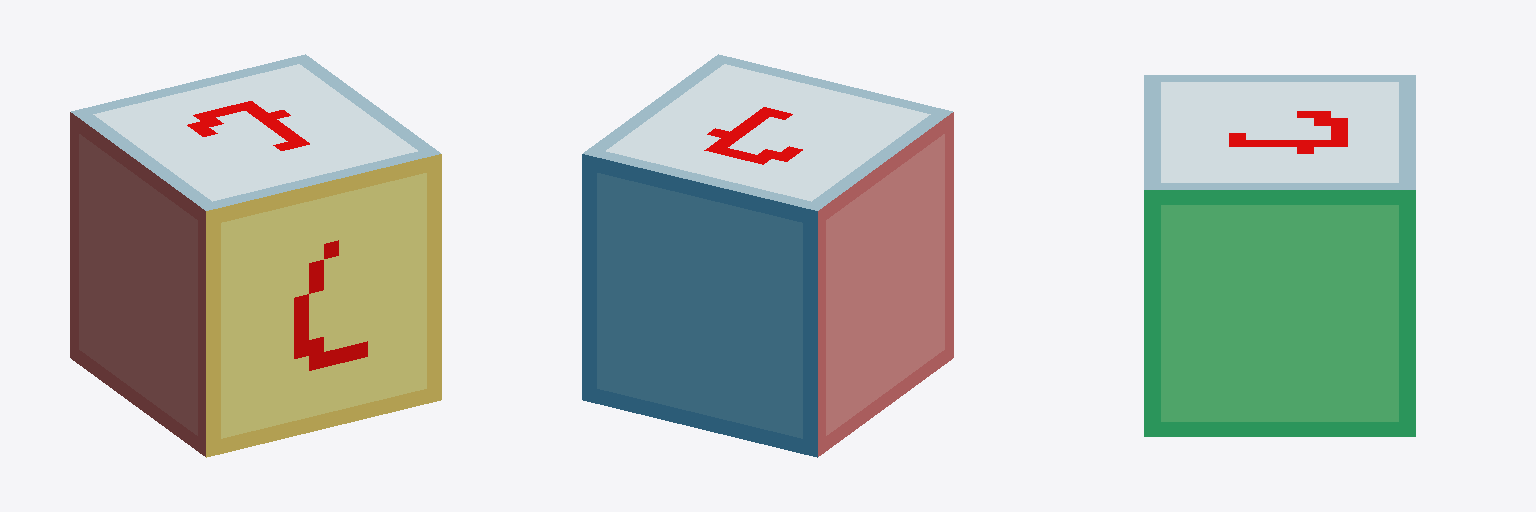
3 renders of one model, left to right at view 1: azimuth 30°, elevation 25°; view 2: azimuth 150°, elevation 25°; view 3: azimuth 270°, elevation 25°, orthographic.
Visible parts, largest first — view 1: cube; view 2: cube; view 3: cube.
Boxes of the visible parts, box(x1,y1,x2,y2) form: cube: box(70, 54, 441, 457); cube: box(582, 54, 953, 457); cube: box(1144, 75, 1415, 436).
Bounding box in the file's own units: 1 × 1 × 1.
Materials: 1 (1 with a texture image).